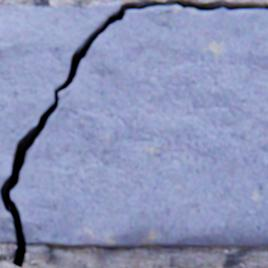broken_brick: (11, 7, 267, 247), (0, 3, 121, 188), (0, 198, 15, 242)
crack: (0, 0, 267, 267)
